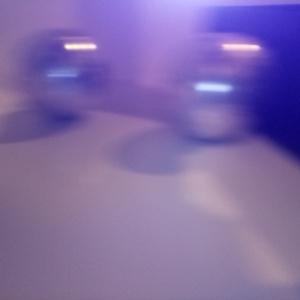alive_ball: (168, 32, 276, 143), (20, 30, 106, 118)
